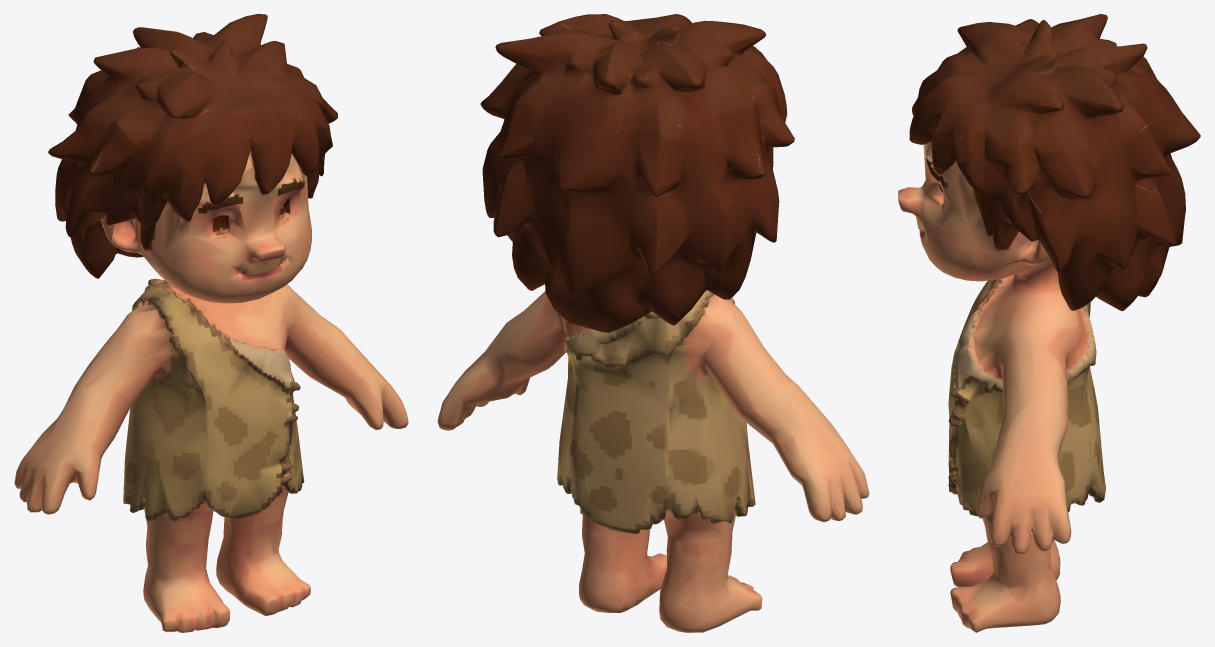
Rendered from child.glb.
3 renders of one model, left to right at view 1: azimuth 30°, elevation 25°; view 2: azimuth 150°, elevation 25°; view 3: azimuth 270°, elevation 25°, orthographic. The views are drawn at different scales.
Parts seen in each view (by area): view 1: Mesh_0; view 2: Mesh_0; view 3: Mesh_0.
Part boxes in pixels (x1=…): Mesh_0: x1=14, y1=14, x2=408, y2=632; Mesh_0: x1=437, y1=14, x2=869, y2=632; Mesh_0: x1=898, y1=14, x2=1200, y2=632.
Size of the model in its own units: 1.36 by 1.91 by 0.9298.
Materials: 1 (1 with a texture image).
